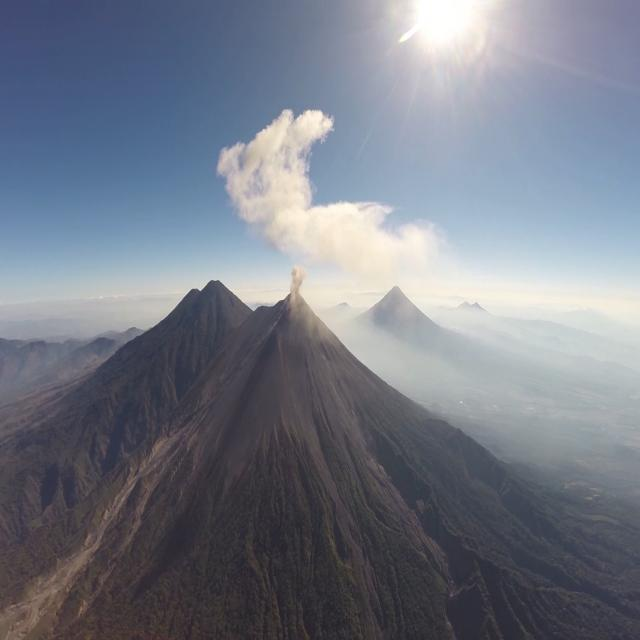Plume: (217, 100, 448, 288), (290, 262, 308, 299)
Summit: (274, 288, 312, 314)
